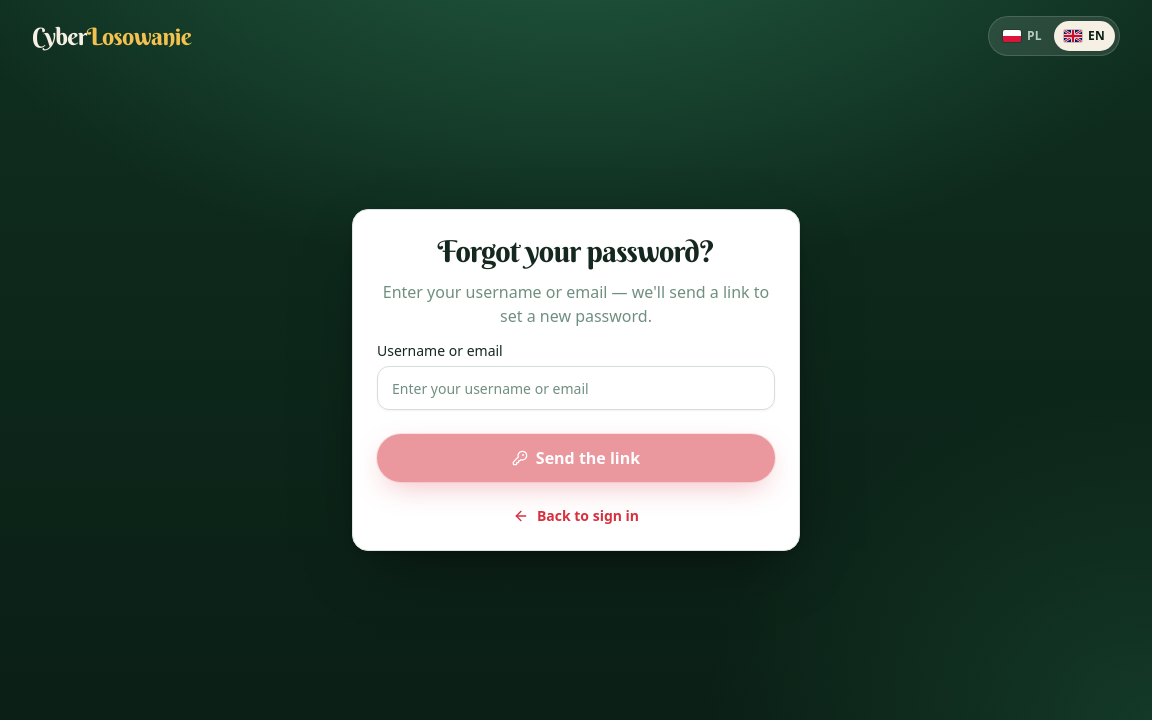
ForgotPassword › explains a rate limit
Type "john" into the field labelled "Username or email".
click(576, 388); type("john")  # box [377,366,775,410]
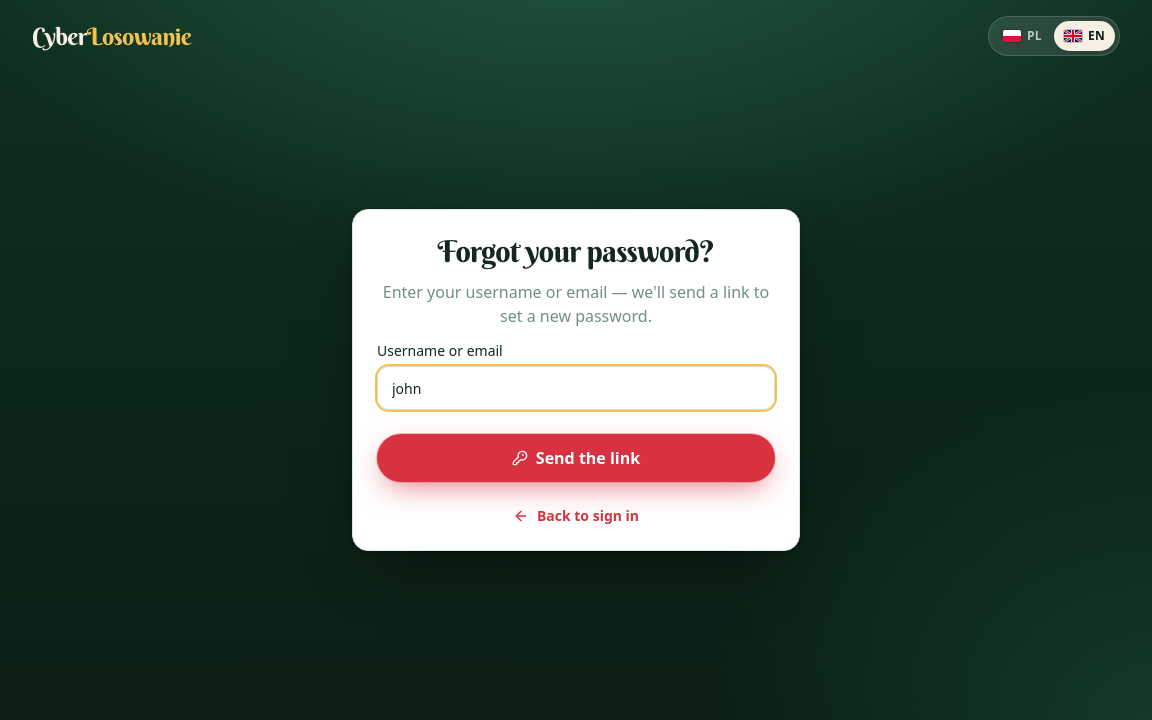
Click the button "Send the link".
click(576, 458)  # box [377,434,775,482]
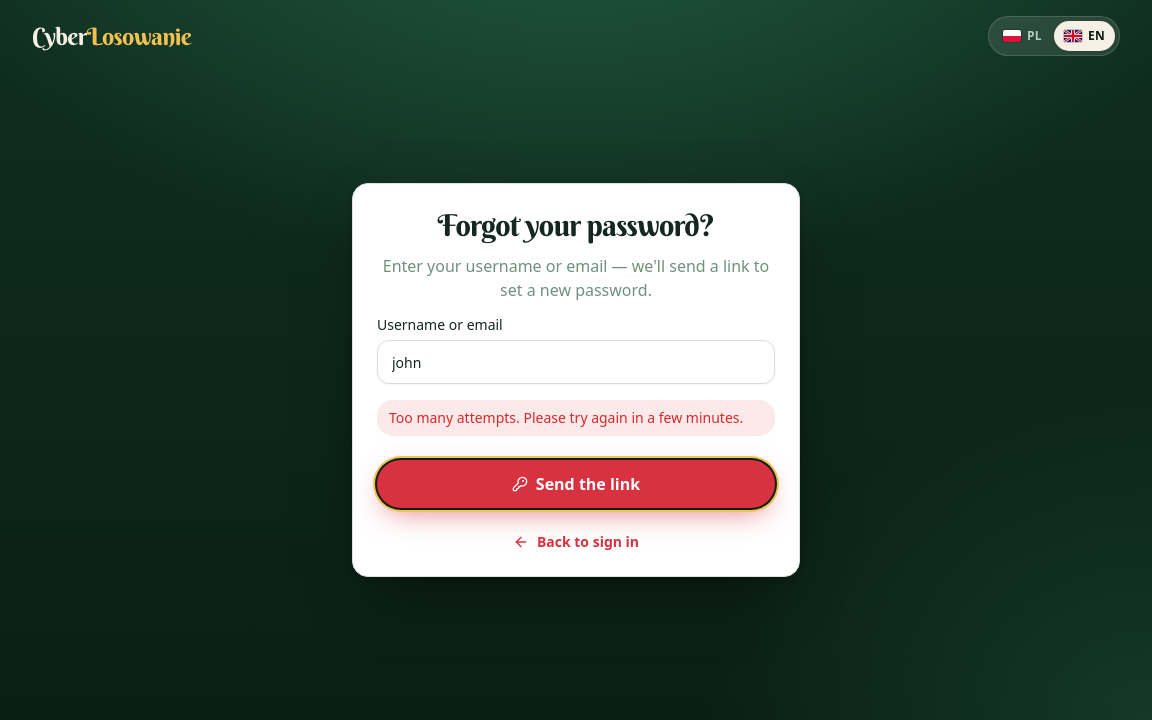
Result: the message shows "Too many attempts" at [389,408,743,427]
